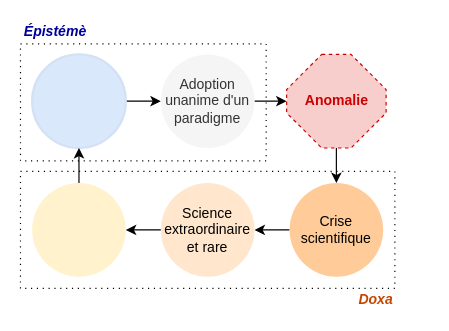
Image size: 449x331. Some labels were removed from this diagram. Here are the shapes that lost their labels. From the top down, the box of each, then its label:
(30, 53, 126, 149): Science normale
(32, 183, 125, 276): Naissance d'un nouveau paradigme
